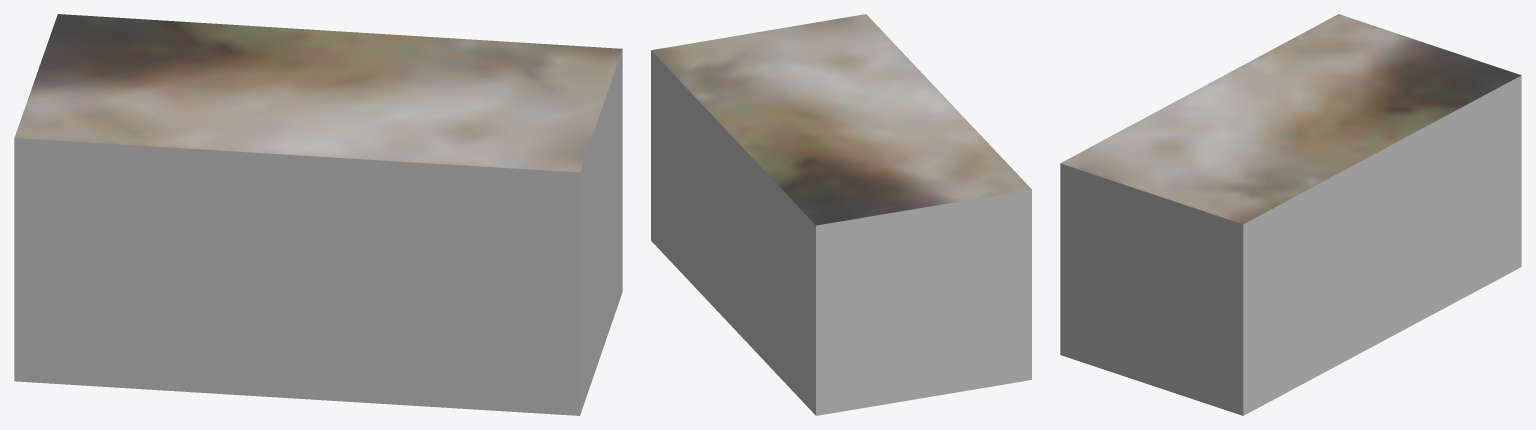
File: DEBW_0010007TxcQ.gltf
The picture shows the model from 3 angles, left to right: view 1: azimuth 30°, elevation 25°; view 2: azimuth 150°, elevation 25°; view 3: azimuth 270°, elevation 25°; orthographic projection. The views are drawn at different scales.
Visible parts, largest first — view 1: Z_UP; view 2: Z_UP; view 3: Z_UP.
Boxes of the visible parts, x1,y1,x2,y2 form: Z_UP: (14,14,622,415); Z_UP: (651,14,1031,415); Z_UP: (1060,14,1521,415).
Size of the model in its own units: 6.31 by 2.68 by 5.85.
Materials: 2 (1 with a texture image).
